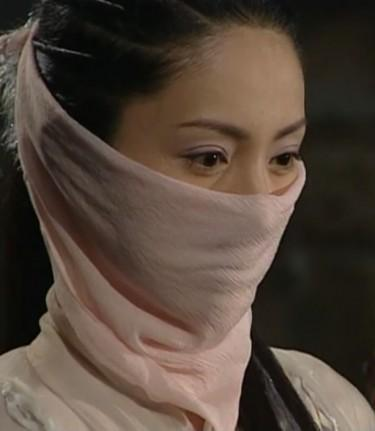OK: (91, 99, 314, 322)
